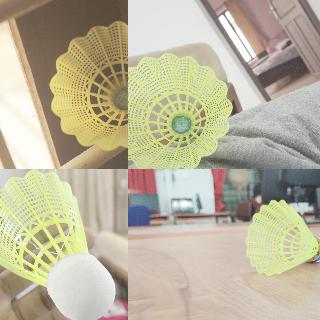shuttlecock: (0, 169, 114, 319), (128, 52, 232, 168), (48, 20, 127, 151), (244, 198, 319, 276)
